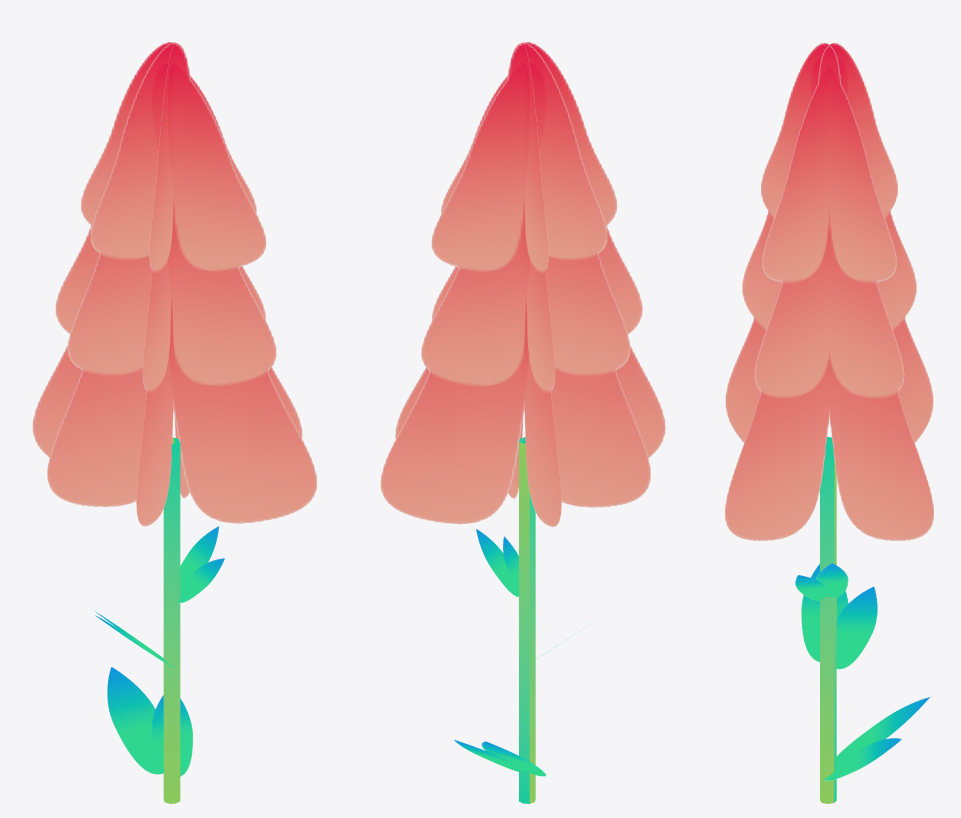
File: Flowers_n02_08.fbx
The picture shows the model from 3 angles, left to right: view 1: azimuth 30°, elevation 25°; view 2: azimuth 150°, elevation 25°; view 3: azimuth 270°, elevation 25°; orthographic projection.
Visible parts, largest first — view 1: polySurface170; view 2: polySurface170; view 3: polySurface170.
Boxes of the visible parts, left/top/right/bottom form: polySurface170: left=32, top=42, right=316, bottom=803; polySurface170: left=380, top=42, right=665, bottom=803; polySurface170: left=725, top=43, right=933, bottom=803.
Bounding box in the file's own units: 16.47 × 42.56 × 11.64.
1 material, 1 textured.
